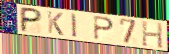7: (118, 18, 138, 46)
H: (141, 20, 164, 49)
I: (70, 12, 78, 39)
K: (46, 10, 65, 37)
P: (19, 6, 44, 33), (93, 15, 115, 42)
